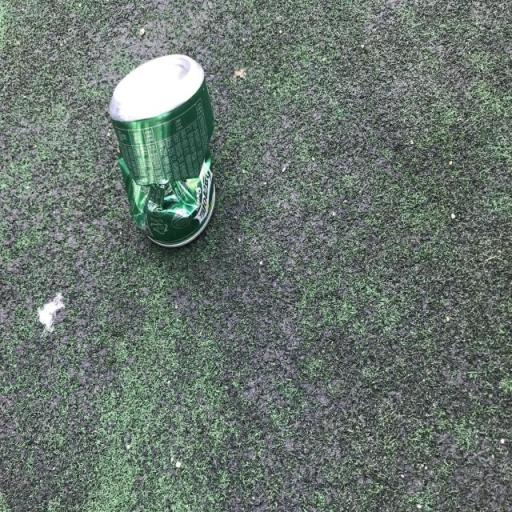metal: (90, 45, 238, 256)
